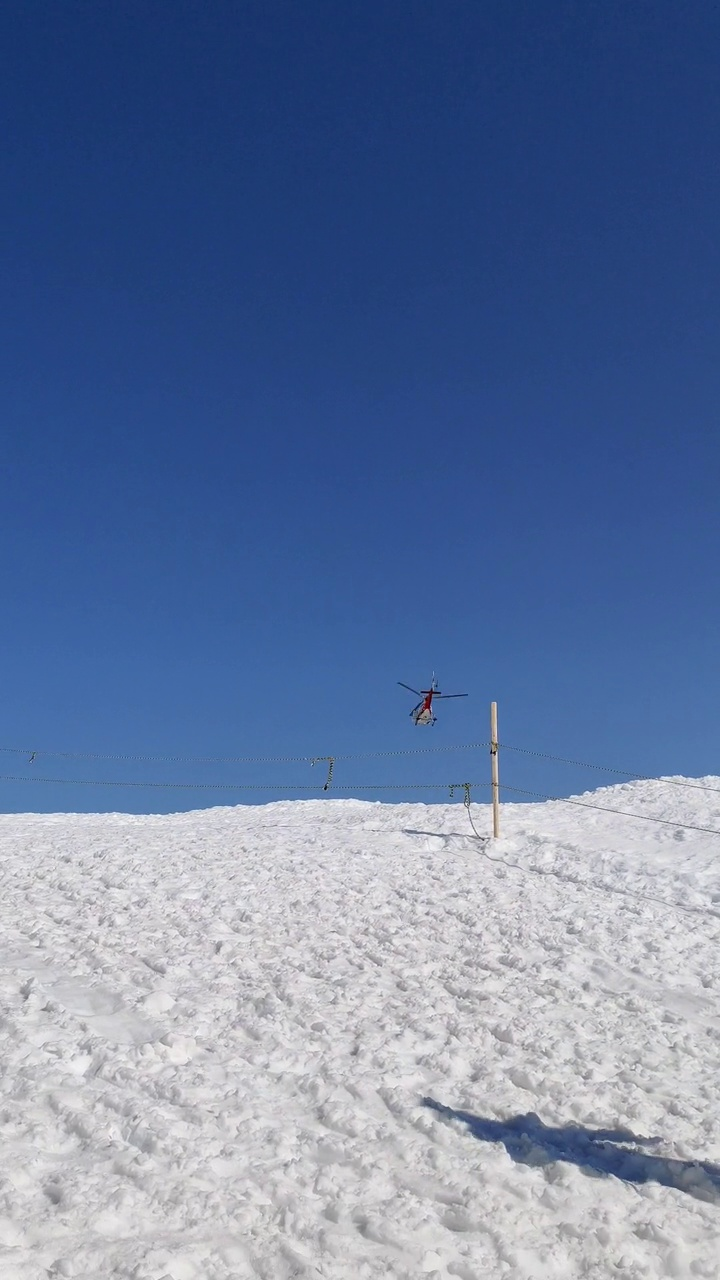heli: (393, 669, 470, 728)
